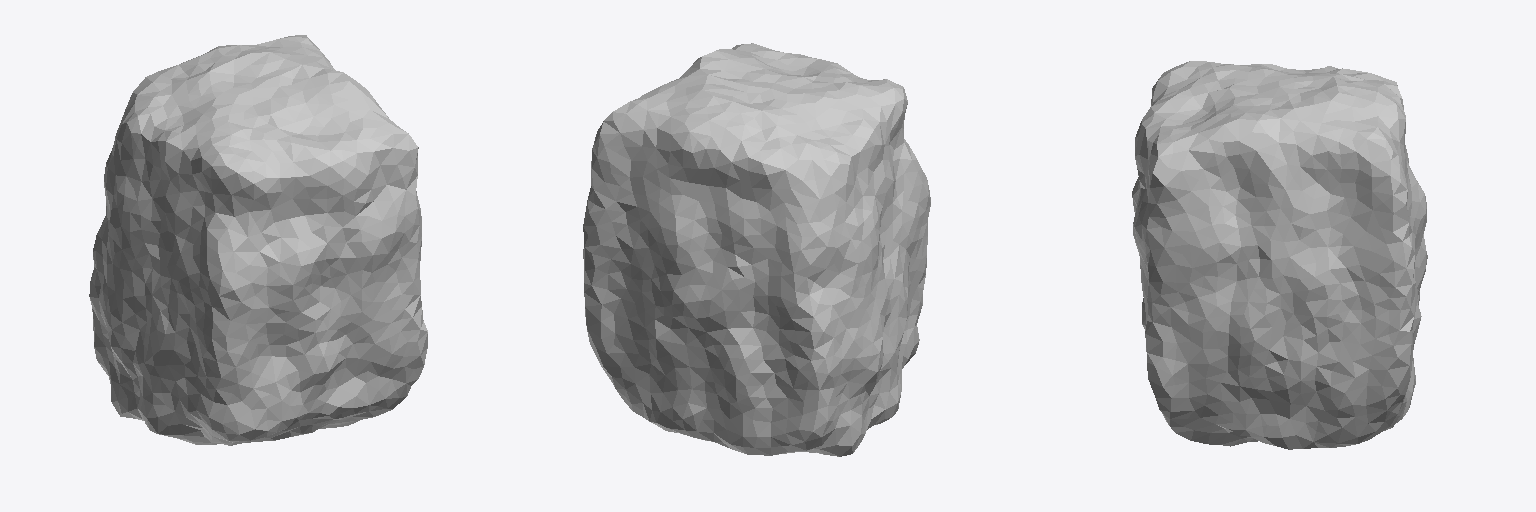
File: Square 2.obj
3 views of the same model, side by side, from view 1: azimuth 30°, elevation 25°; view 2: azimuth 150°, elevation 25°; view 3: azimuth 270°, elevation 25° (orthographic).
Parts seen in each view (by area): view 1: Square_2_Icosphere.003; view 2: Square_2_Icosphere.003; view 3: Square_2_Icosphere.003.
Part boxes in pixels (x1,y1,x2,y2): Square_2_Icosphere.003: (89, 35, 427, 445); Square_2_Icosphere.003: (583, 43, 930, 456); Square_2_Icosphere.003: (1132, 61, 1427, 449).
Bounding box in the file's own units: 4.13 × 5.41 × 4.13.